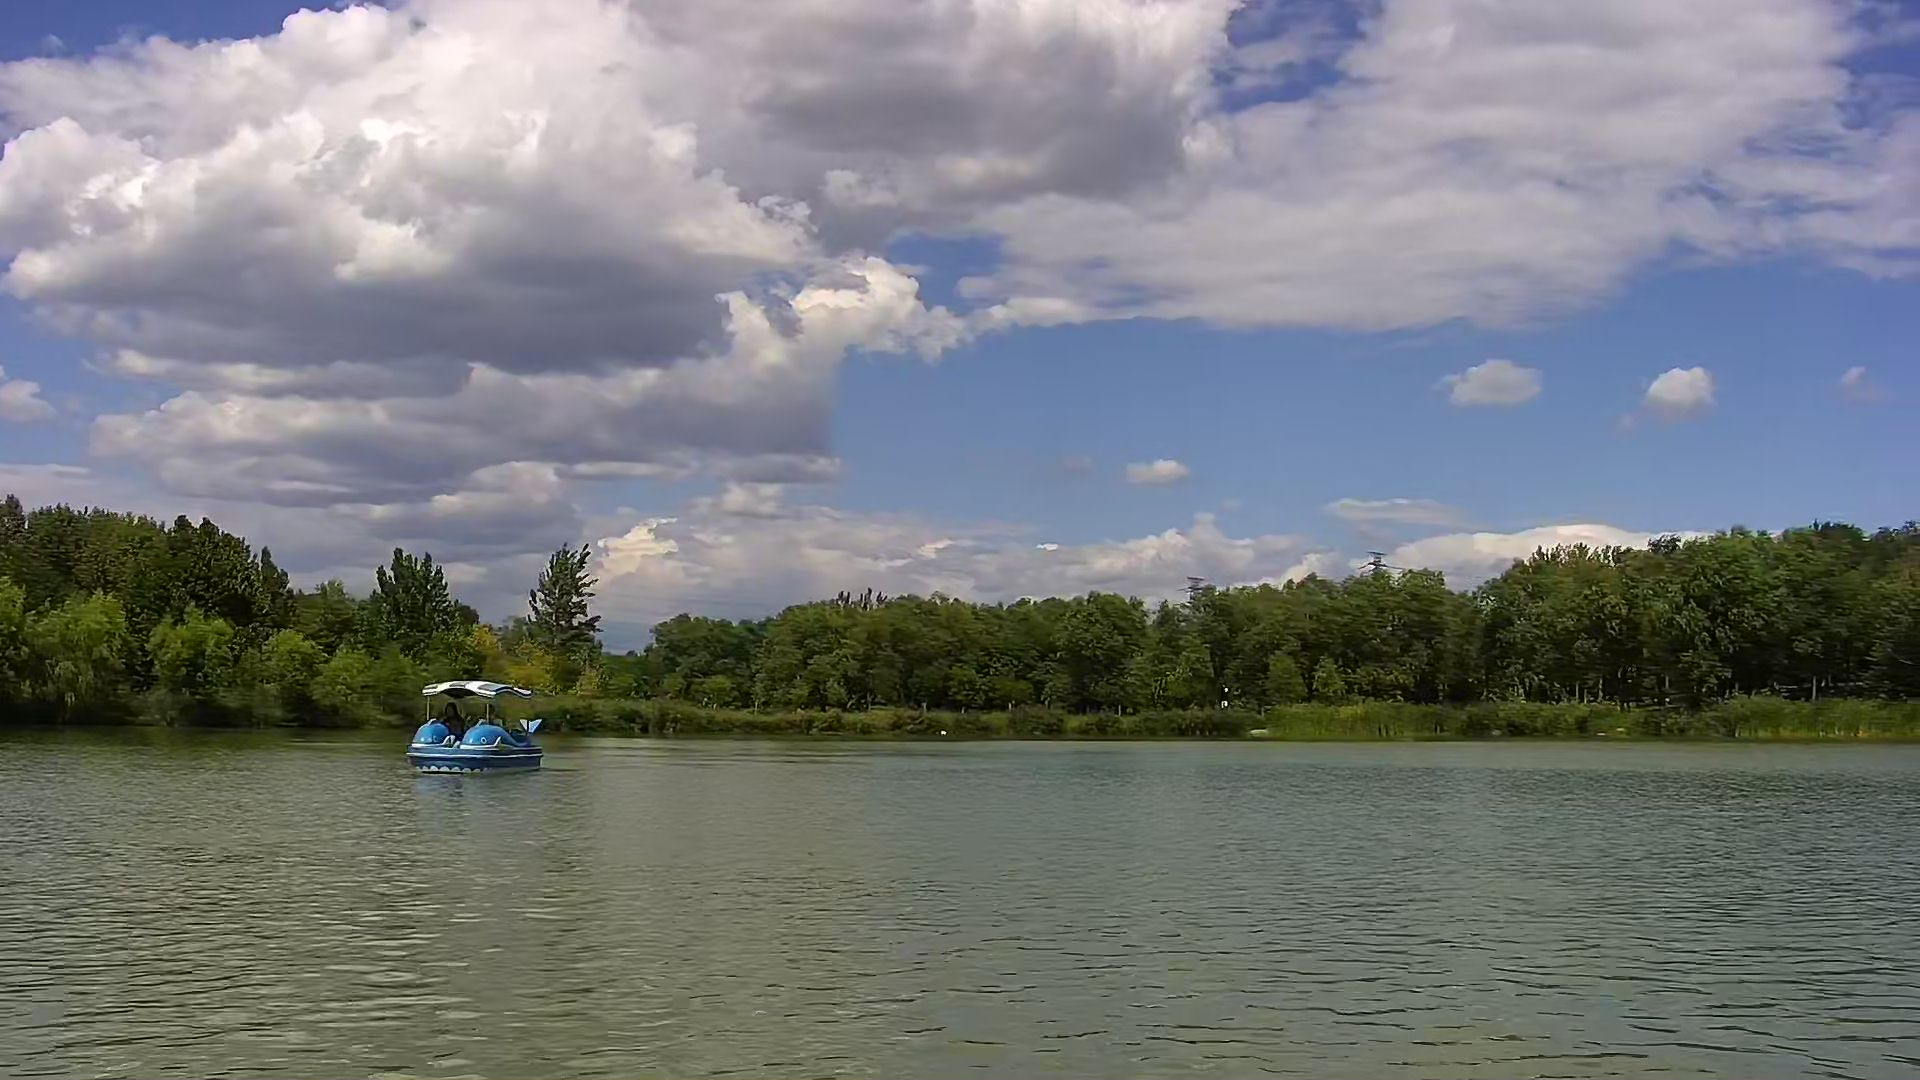boat: (406, 680, 543, 783)
